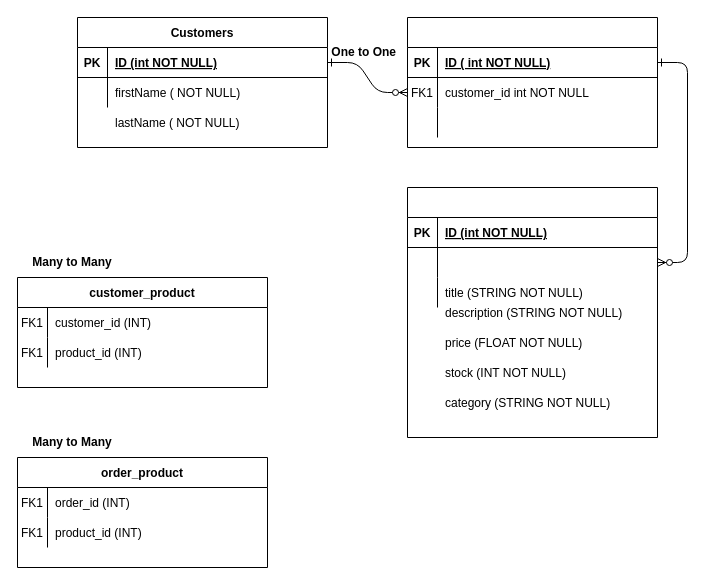
This 714x585 diagram has some shape labels left out. The shapes that lost their labels are listed below. From the top down, each one's box as (x1, y1, x2, y2) in pixels, then its label:
(406, 16, 658, 148): Orders
(406, 186, 658, 438): Products
